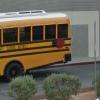Bus: (2, 6, 73, 81)
